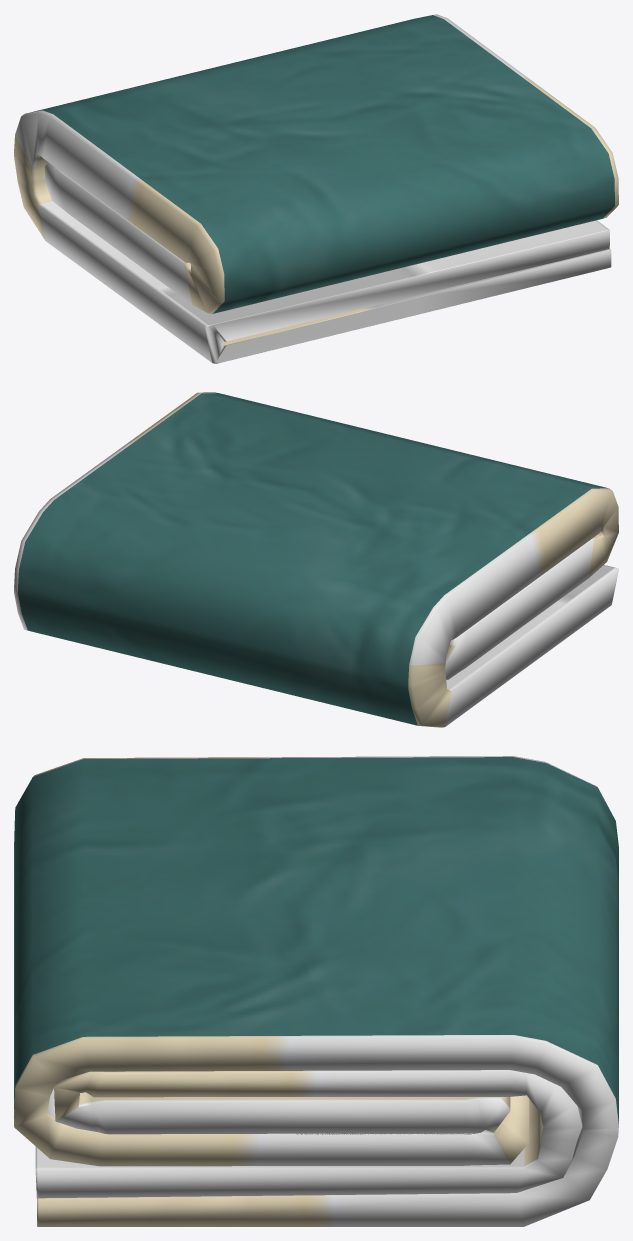
The model's file is 3. N_bed_2 bedsheet2.fbx.
The picture shows the model from 3 angles, top to bottom: view 1: azimuth 30°, elevation 25°; view 2: azimuth 150°, elevation 25°; view 3: azimuth 270°, elevation 25°; orthographic projection. The views are drawn at different scales.
Visible parts, largest first — view 1: 3. N_bed_2 bedsheet2; view 2: 3. N_bed_2 bedsheet2; view 3: 3. N_bed_2 bedsheet2.
Part boxes in pixels (x1,y1,x2,y2): 3. N_bed_2 bedsheet2: [14, 14, 618, 363]; 3. N_bed_2 bedsheet2: [14, 392, 618, 727]; 3. N_bed_2 bedsheet2: [14, 756, 618, 1226].
Bounding box in the file's own units: 0.3238 × 0.0987 × 0.2857.
